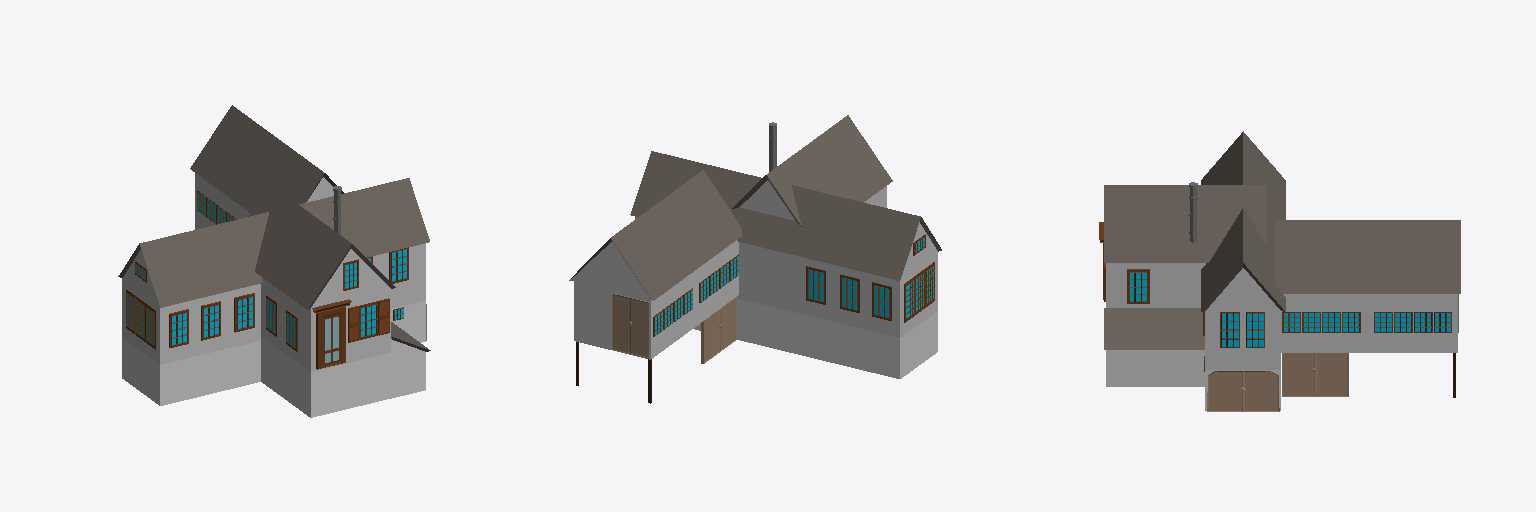
The model's file is calvin_hasting_paintshop.obj.
The picture shows the model from 3 angles: view 1: azimuth 30°, elevation 25°; view 2: azimuth 150°, elevation 25°; view 3: azimuth 270°, elevation 25°; orthographic projection.
Visible parts, largest first — view 1: Mesh54 base_house calvin_hasting_paintshop_obj Model, Mesh55 base_house calvin_hasting_paintshop_obj Model, Mesh56 ext_1 calvin_hasting_paintshop_obj Model, Mesh3 ext_2 calvin_hasting_paintshop_obj Model, Mesh57 ext_1 calvin_hasting_paintshop_obj Model, Mesh11 door calvin_hasting_paintshop_obj Model, Mesh25 window7 calvin_hasting_paintshop_obj Model, Mesh24 window6 calvin_hasting_paintshop_obj Model, Mesh23 window5 calvin_hasting_paintshop_obj Model, Mesh8 shutter_window calvin_hasting_paintshop_obj Model, Mesh2 window1 calvin_hasting_paintshop_obj Model; view 2: Mesh55 base_house calvin_hasting_paintshop_obj Model, Mesh3 ext_2 calvin_hasting_paintshop_obj Model, Mesh54 base_house calvin_hasting_paintshop_obj Model, Mesh57 ext_1 calvin_hasting_paintshop_obj Model, Mesh17 barn_door1_barn_door1 calvin_hasting_paintshop_obj Model, Mesh19 barn_door2 calvin_hasting_paintshop_obj Model, Mesh56 ext_1 calvin_hasting_paintshop_obj Model, Mesh33 window10 calvin_hasting_paintshop_obj Model, Mesh35 window12 calvin_hasting_paintshop_obj Model, Mesh34 window11 calvin_hasting_paintshop_obj Model; view 3: Mesh3 ext_2 calvin_hasting_paintshop_obj Model, Mesh57 ext_1 calvin_hasting_paintshop_obj Model, Mesh54 base_house calvin_hasting_paintshop_obj Model, Mesh56 ext_1 calvin_hasting_paintshop_obj Model, Mesh55 base_house calvin_hasting_paintshop_obj Model, Mesh58 ext_1 calvin_hasting_paintshop_obj Model, Mesh15 barn_door1_barn_door1 calvin_hasting_paintshop_obj Model, Mesh13 barn_door_barn_door1 calvin_hasting_paintshop_obj Model, Mesh5 window2 calvin_hasting_paintshop_obj Model, Mesh53 big_windows calvin_hasting_paintshop_obj Model, Mesh52 big_windows calvin_hasting_paintshop_obj Model.
Boxes of the visible parts, x1=… form: Mesh54 base_house calvin_hasting_paintshop_obj Model: x1=118, y1=178, x2=429, y2=307; Mesh55 base_house calvin_hasting_paintshop_obj Model: x1=122, y1=243, x2=425, y2=405; Mesh56 ext_1 calvin_hasting_paintshop_obj Model: x1=261, y1=249, x2=425, y2=417; Mesh3 ext_2 calvin_hasting_paintshop_obj Model: x1=190, y1=105, x2=343, y2=229; Mesh57 ext_1 calvin_hasting_paintshop_obj Model: x1=248, y1=184, x2=395, y2=309; Mesh11 door calvin_hasting_paintshop_obj Model: x1=316, y1=307, x2=345, y2=369; Mesh25 window7 calvin_hasting_paintshop_obj Model: x1=234, y1=293, x2=254, y2=332; Mesh24 window6 calvin_hasting_paintshop_obj Model: x1=201, y1=301, x2=220, y2=340; Mesh23 window5 calvin_hasting_paintshop_obj Model: x1=169, y1=309, x2=188, y2=347; Mesh8 shutter_window calvin_hasting_paintshop_obj Model: x1=359, y1=301, x2=377, y2=339; Mesh2 window1 calvin_hasting_paintshop_obj Model: x1=389, y1=247, x2=408, y2=283; Mesh55 base_house calvin_hasting_paintshop_obj Model: x1=635, y1=217, x2=937, y2=378; Mesh3 ext_2 calvin_hasting_paintshop_obj Model: x1=569, y1=170, x2=742, y2=359; Mesh54 base_house calvin_hasting_paintshop_obj Model: x1=630, y1=151, x2=941, y2=280; Mesh57 ext_1 calvin_hasting_paintshop_obj Model: x1=732, y1=115, x2=892, y2=226; Mesh17 barn_door1_barn_door1 calvin_hasting_paintshop_obj Model: x1=612, y1=293, x2=648, y2=358; Mesh19 barn_door2 calvin_hasting_paintshop_obj Model: x1=701, y1=297, x2=736, y2=363; Mesh56 ext_1 calvin_hasting_paintshop_obj Model: x1=740, y1=180, x2=886, y2=220; Mesh33 window10 calvin_hasting_paintshop_obj Model: x1=872, y1=282, x2=891, y2=320; Mesh35 window12 calvin_hasting_paintshop_obj Model: x1=806, y1=266, x2=825, y2=304; Mesh34 window11 calvin_hasting_paintshop_obj Model: x1=840, y1=274, x2=859, y2=312; Mesh3 ext_2 calvin_hasting_paintshop_obj Model: x1=1275, y1=220, x2=1460, y2=352; Mesh57 ext_1 calvin_hasting_paintshop_obj Model: x1=1104, y1=185, x2=1266, y2=262; Mesh54 base_house calvin_hasting_paintshop_obj Model: x1=1201, y1=131, x2=1285, y2=311; Mesh56 ext_1 calvin_hasting_paintshop_obj Model: x1=1106, y1=263, x2=1205, y2=386; Mesh55 base_house calvin_hasting_paintshop_obj Model: x1=1205, y1=268, x2=1280, y2=410; Mesh58 ext_1 calvin_hasting_paintshop_obj Model: x1=1104, y1=308, x2=1204, y2=349; Mesh15 barn_door1_barn_door1 calvin_hasting_paintshop_obj Model: x1=1282, y1=353, x2=1348, y2=396; Mesh13 barn_door_barn_door1 calvin_hasting_paintshop_obj Model: x1=1207, y1=371, x2=1279, y2=411; Mesh5 window2 calvin_hasting_paintshop_obj Model: x1=1127, y1=269, x2=1149, y2=303; Mesh53 big_windows calvin_hasting_paintshop_obj Model: x1=1220, y1=312, x2=1239, y2=347; Mesh52 big_windows calvin_hasting_paintshop_obj Model: x1=1246, y1=312, x2=1264, y2=347.
Size of the model in its own units: 2464 by 1581 by 2868.